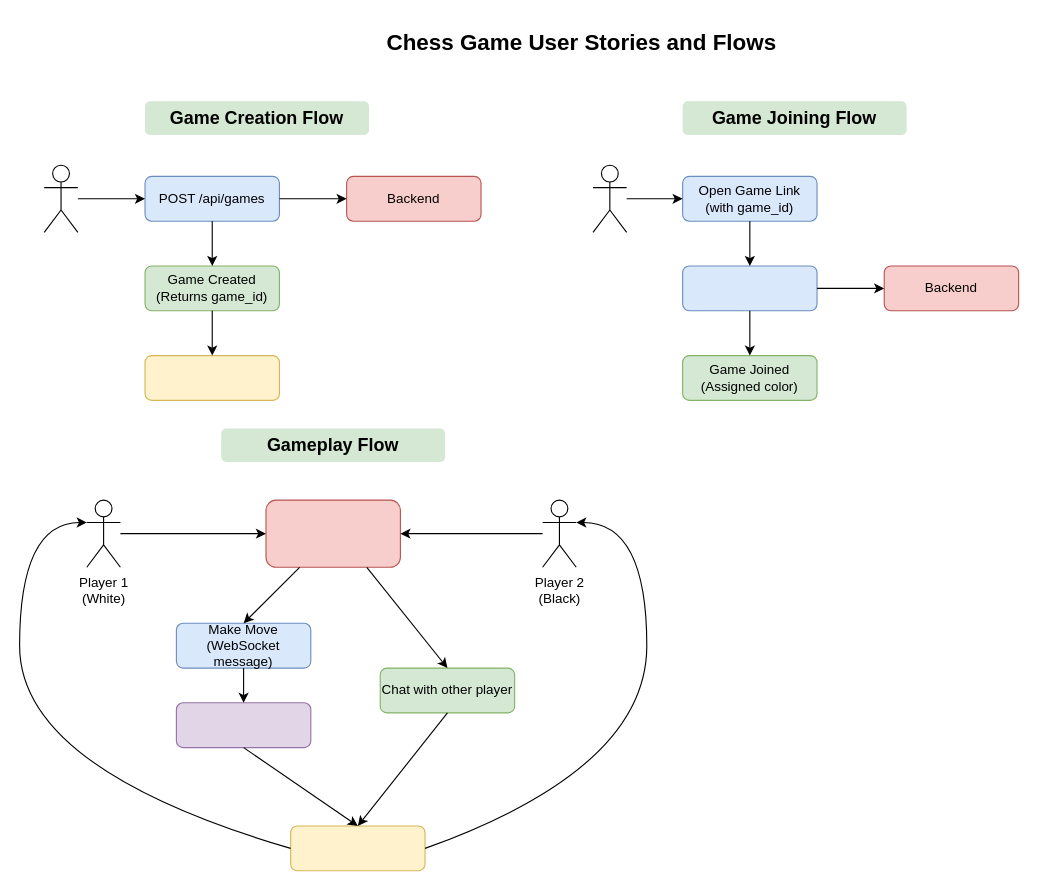
The diagram is 1038 pixels wide and 890 high, and some of its shapes have lost their labels. Here are the shapes that lost their labels. From the top down, the centre of each, then its label:
At [60,198]: "Player 1".
At [609,198]: "Player 2".
At [749,288]: "Connect WebSocket /ws/{game_id}".
At [211,377]: "Share Game ID".
At [332,533]: "Chess Backend WebSocket Server".
At [243,725]: "Validate Move (python-chess)".
At [357,848]: "Broadcast (WebSocket)".
